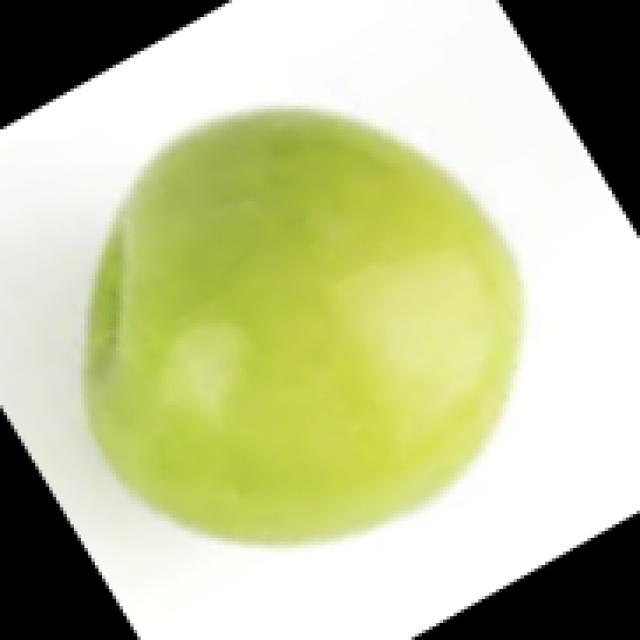Fresh Apple: (69, 105, 504, 525)
